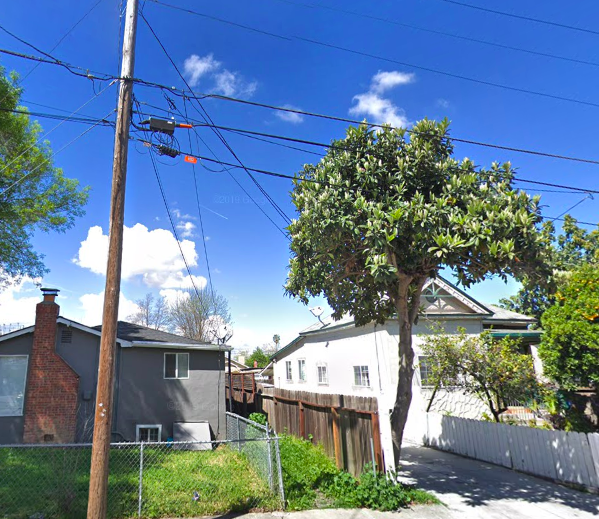tree: (282, 116, 543, 472)
